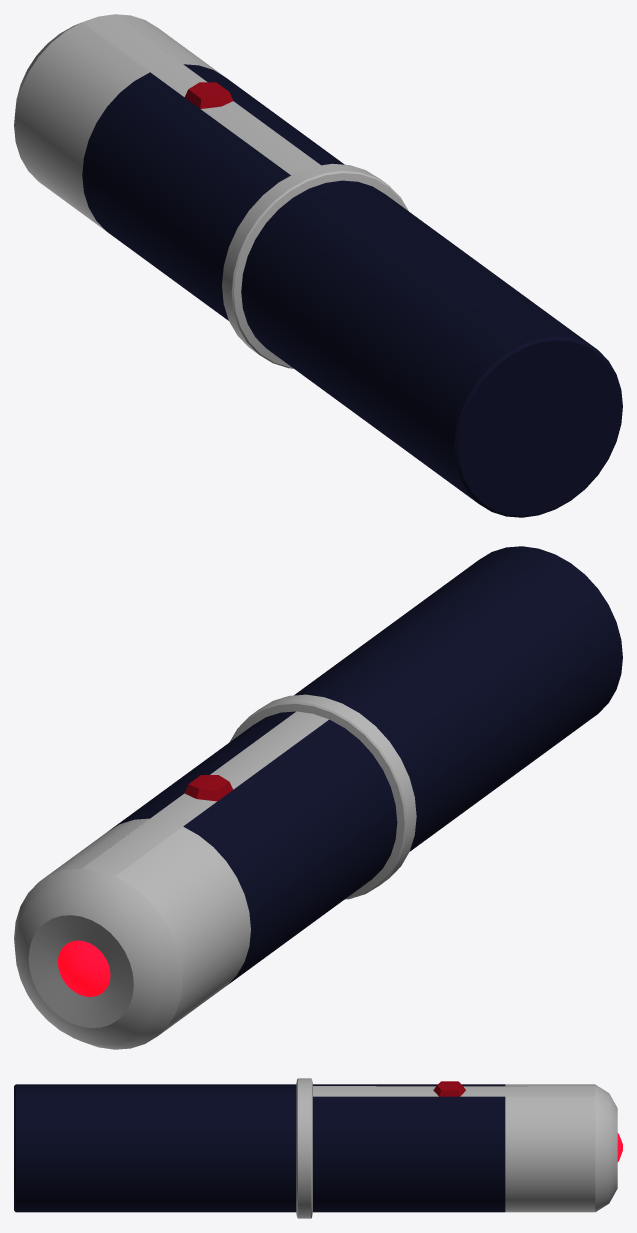
The model's file is Laser 7.fbx.
3 renders of one model, top to bottom at view 1: azimuth 30°, elevation 25°; view 2: azimuth 150°, elevation 25°; view 3: azimuth 270°, elevation 25°, orthographic. The views are drawn at different scales.
Visible parts, largest first — view 1: Cylinder; view 2: Cylinder; view 3: Cylinder.
Boxes of the visible parts, x1,y1,x2,y2 form: Cylinder: (14, 14, 622, 517); Cylinder: (14, 546, 622, 1049); Cylinder: (14, 1078, 622, 1218).
Size of the model in its own units: 21.92 by 21.92 by 95.
